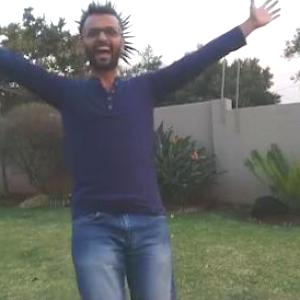takeoff: (1, 4, 271, 299)
